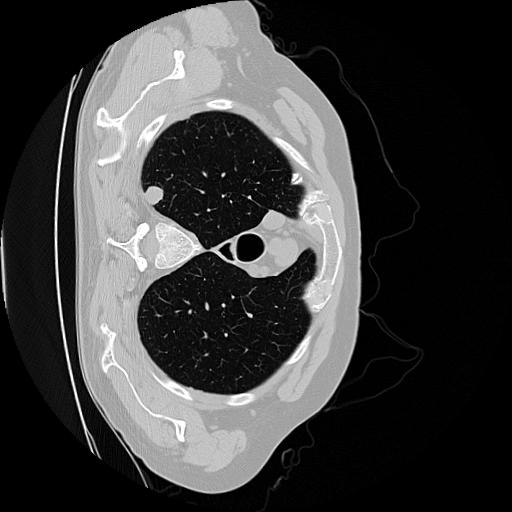nodule: (143, 182, 168, 207)
